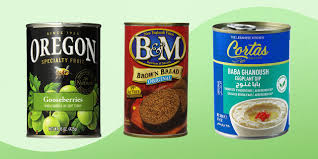can: (20, 16, 298, 143)
